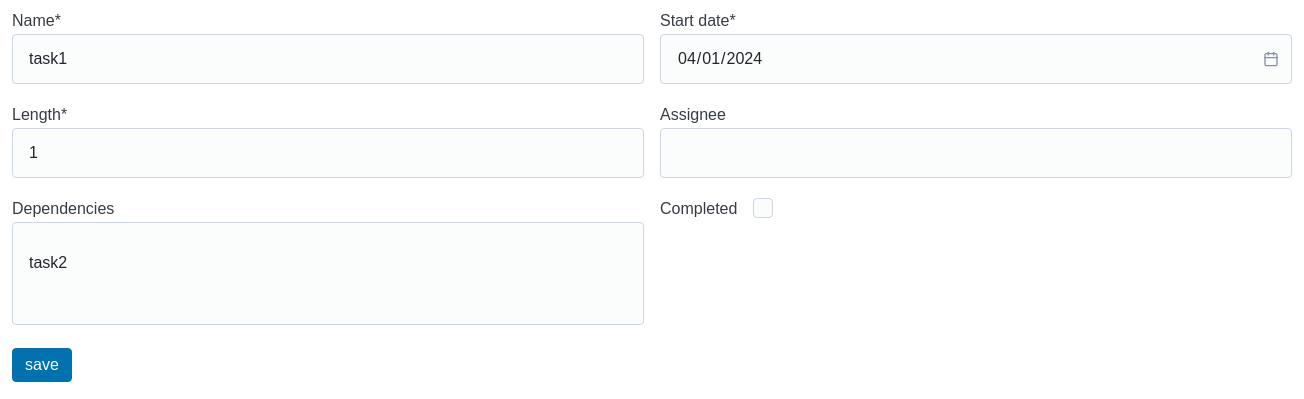
Auto move dependant tasks › sets the dependant tasks to be moved, if any
Type "3" into the number field labelled "Length" at (328,153), box [12,128,644,178]
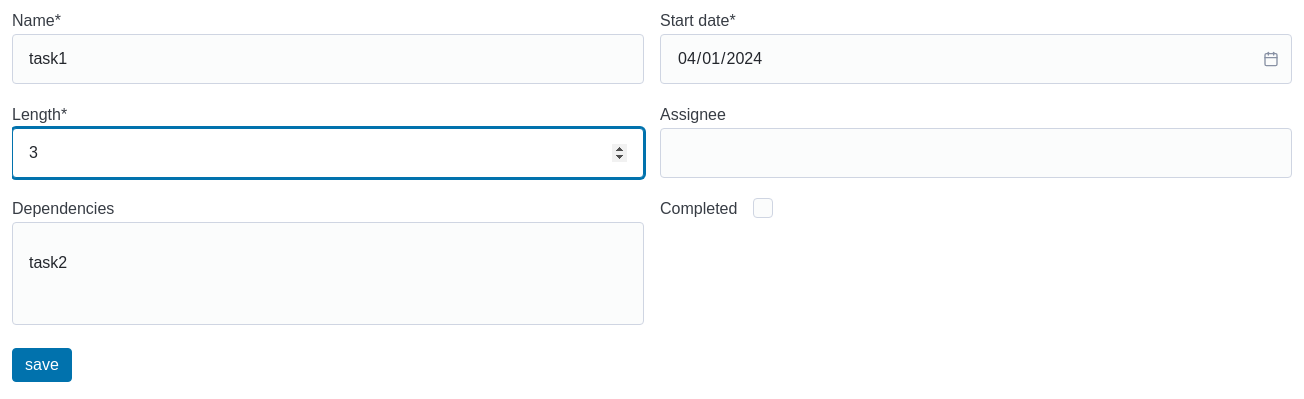
Click the button "save" at (42,365), box [12,348,72,382]
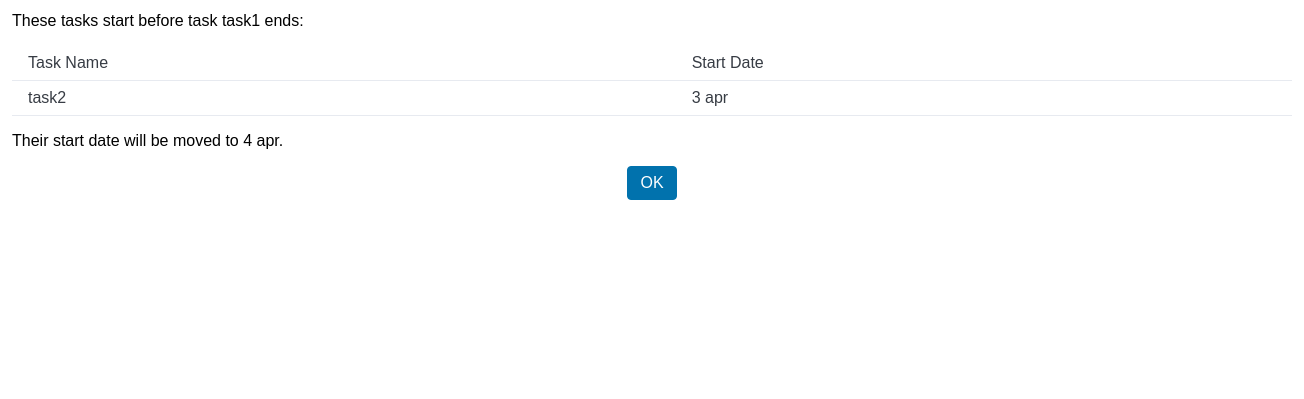
Expected: the element with test id "dependency-warning" is shown, [12,12,1292,200]
